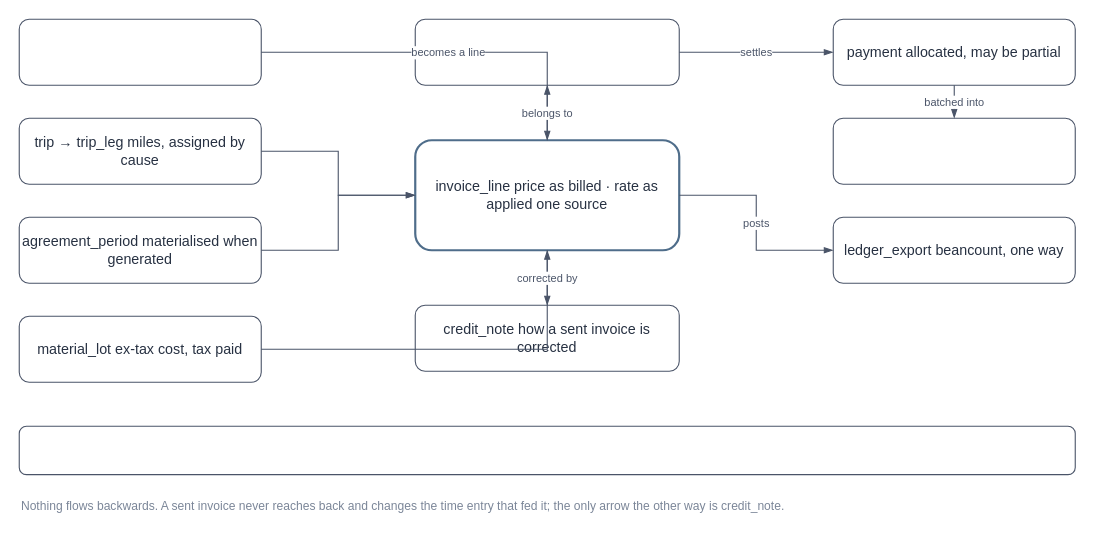
Image size: 1095x556. Some labels were removed from this diagram. The shapes that lost their labels are listed below. From the top down, each one's centre as x and y in pixels, then its label:
At pixel 139 51: "time_entry worked_by · created_by".
At pixel 546 51: "invoice immutable once sent".
At pixel 953 150: "payout one deposit, many payments".
At pixel 546 450: "operator · user · record_history".
